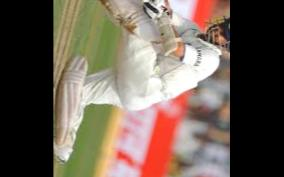batsman: (53, 0, 230, 166)
